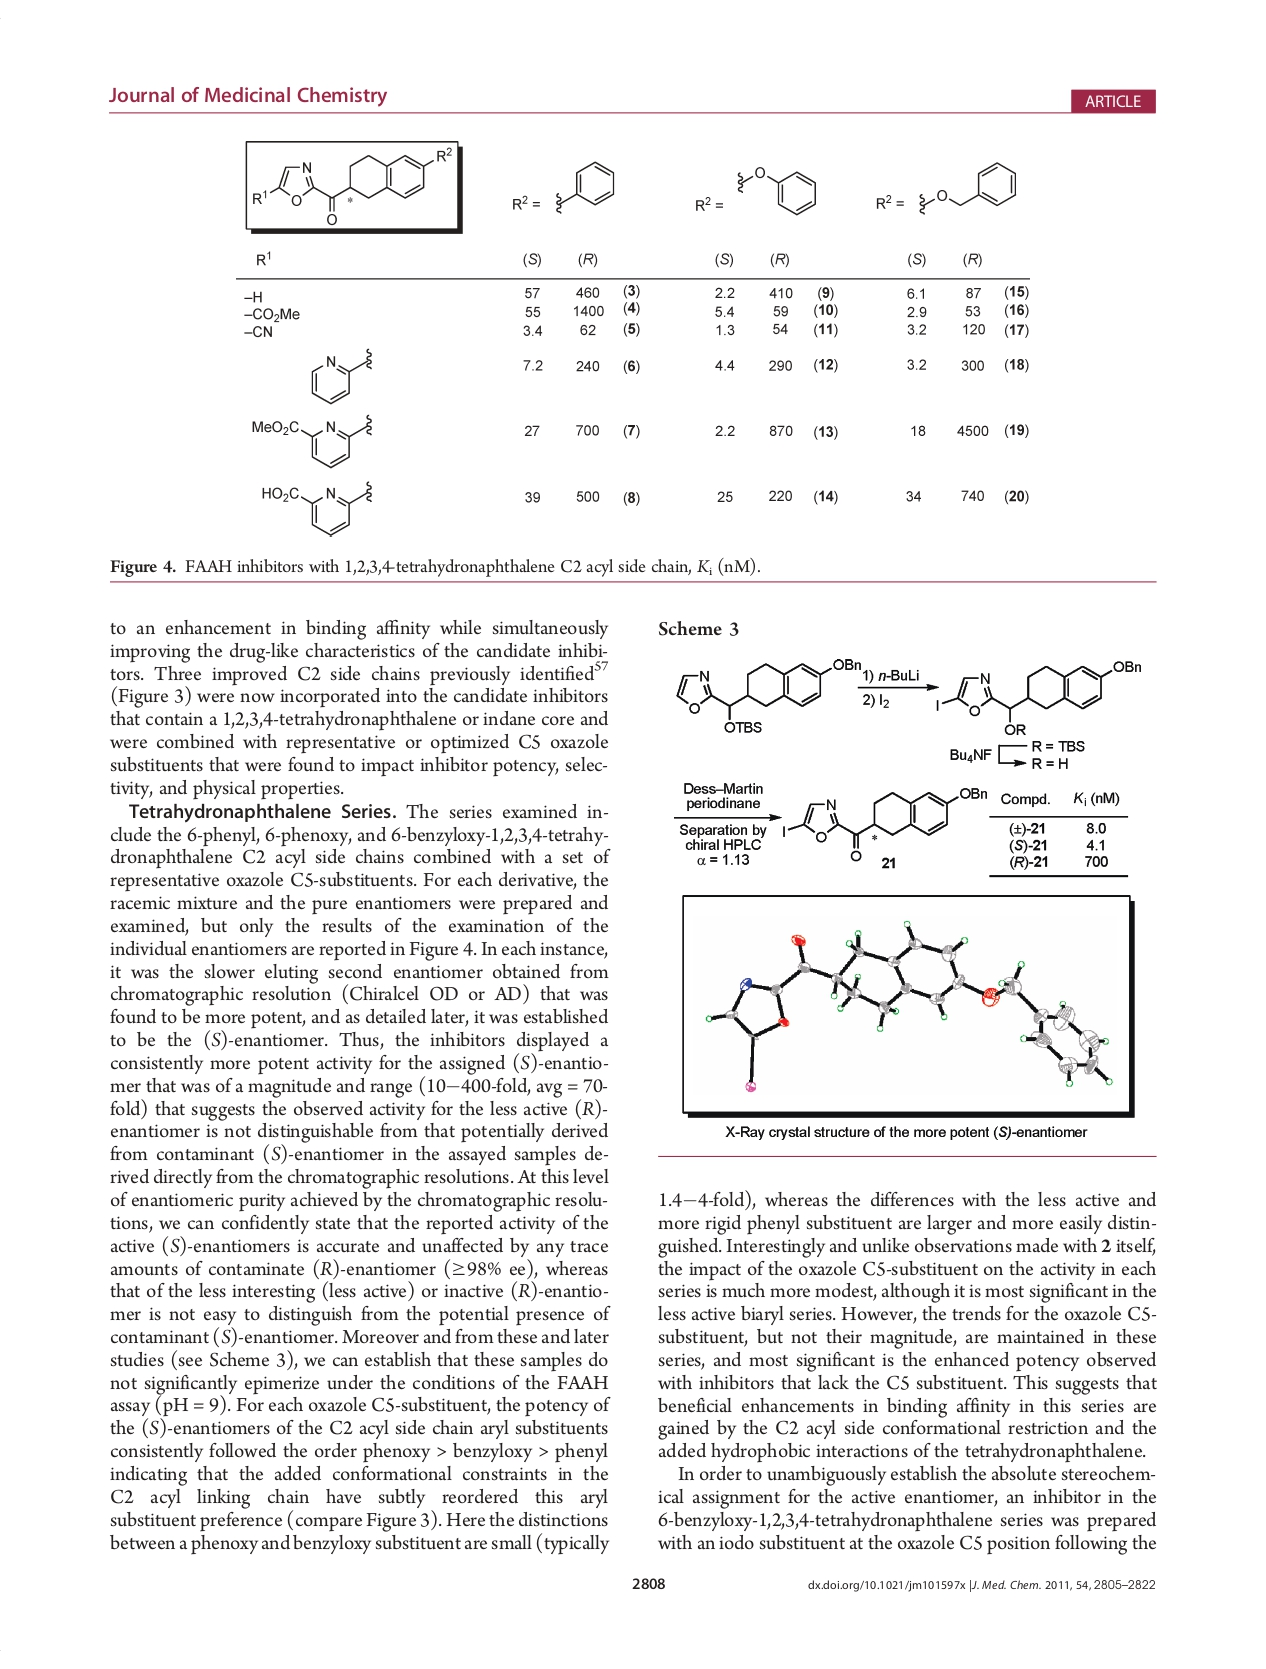exist_molecular: (251, 145, 455, 227), (935, 657, 1142, 737), (777, 787, 987, 863), (670, 656, 860, 737), (246, 411, 376, 472), (255, 477, 378, 543), (914, 156, 1023, 223), (730, 164, 822, 219), (305, 340, 376, 408), (551, 154, 625, 219)
